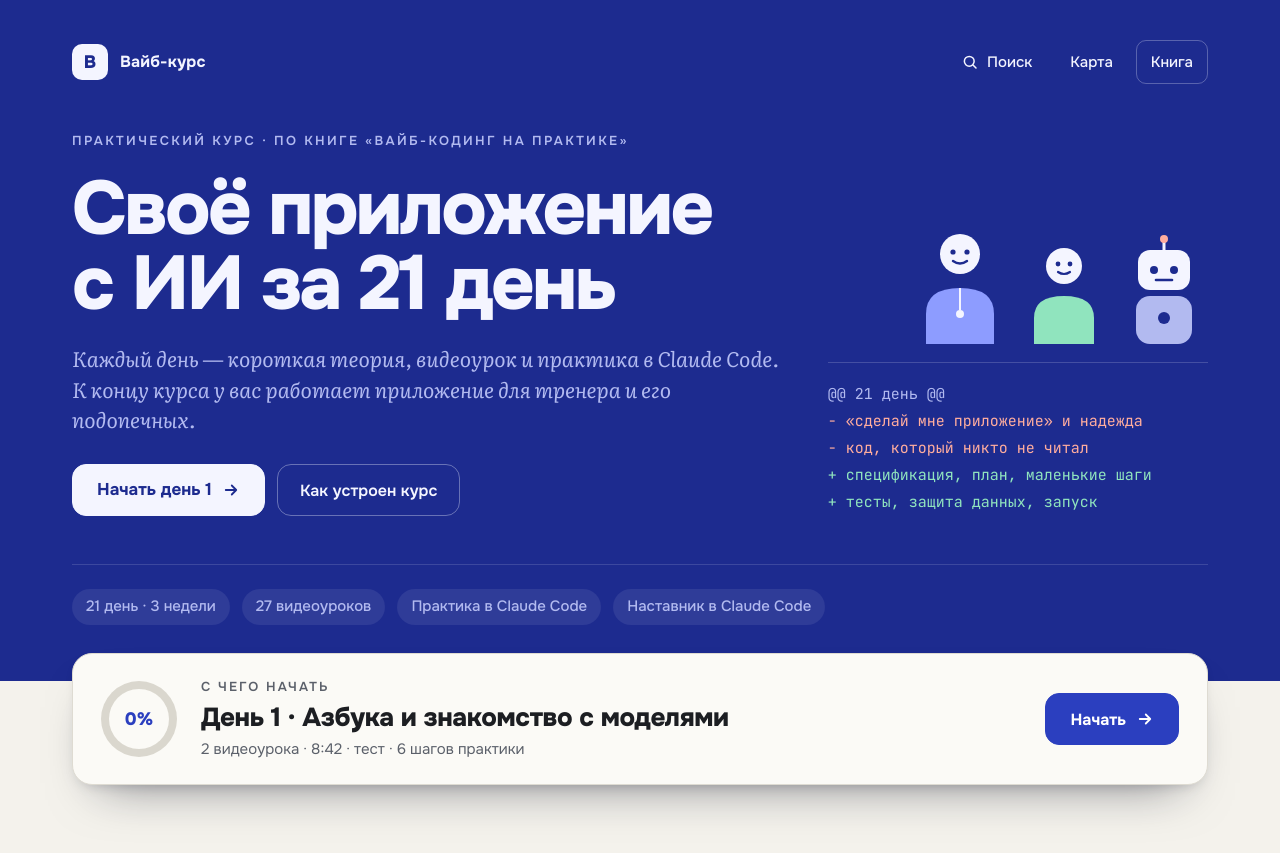
it: окно поиска: открытие и закрытие › кнопка «Поиск» на главной открывает окно, фокус в поле, до 2 символов — примеры
Click the button "Поиск" at (997, 62), box [946, 40, 1047, 84]
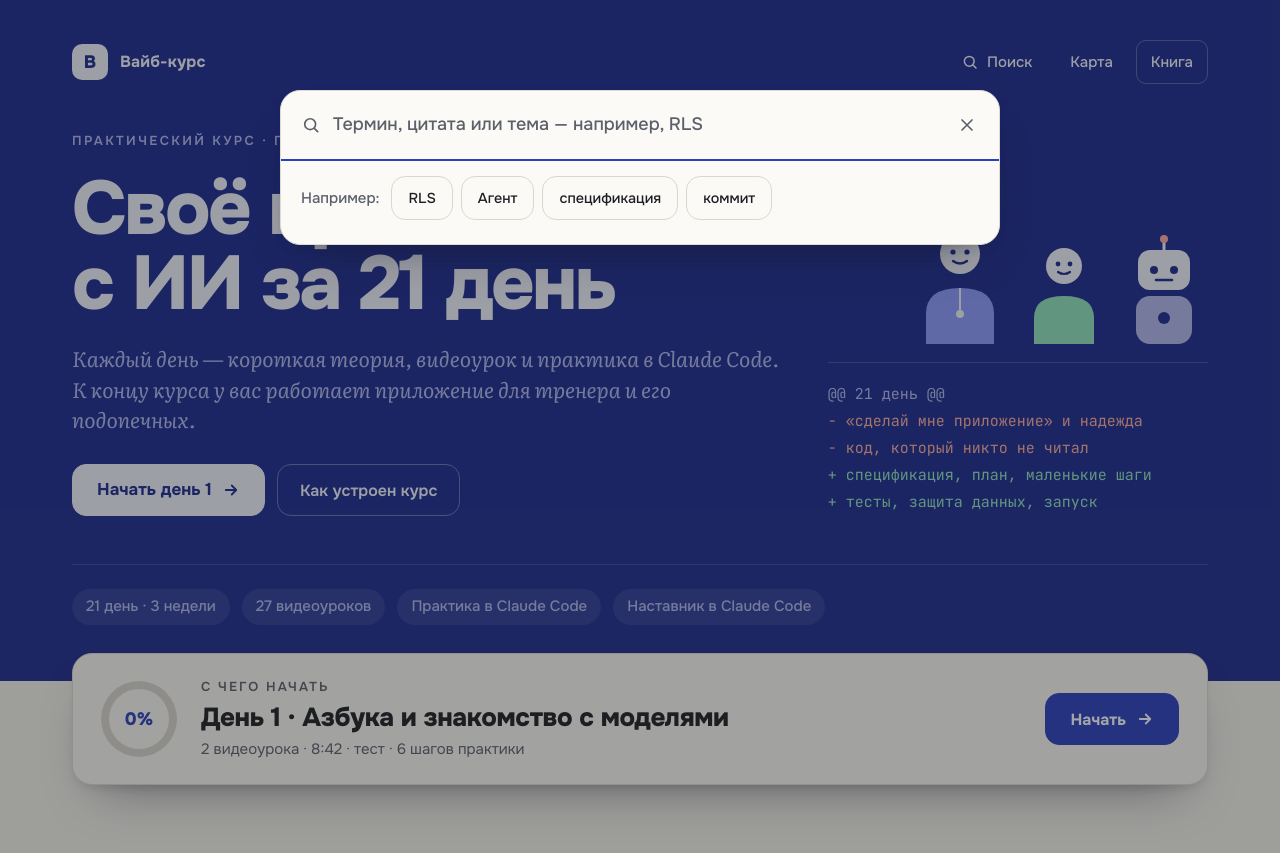
Result: the text "Например:" is shown at [301, 188, 379, 208]
Result: the button "RLS" is shown at [391, 176, 453, 220]
Result: the button "Агент" is shown at [461, 176, 534, 220]
Click the button "коммит" at (729, 198), box [686, 176, 772, 220]
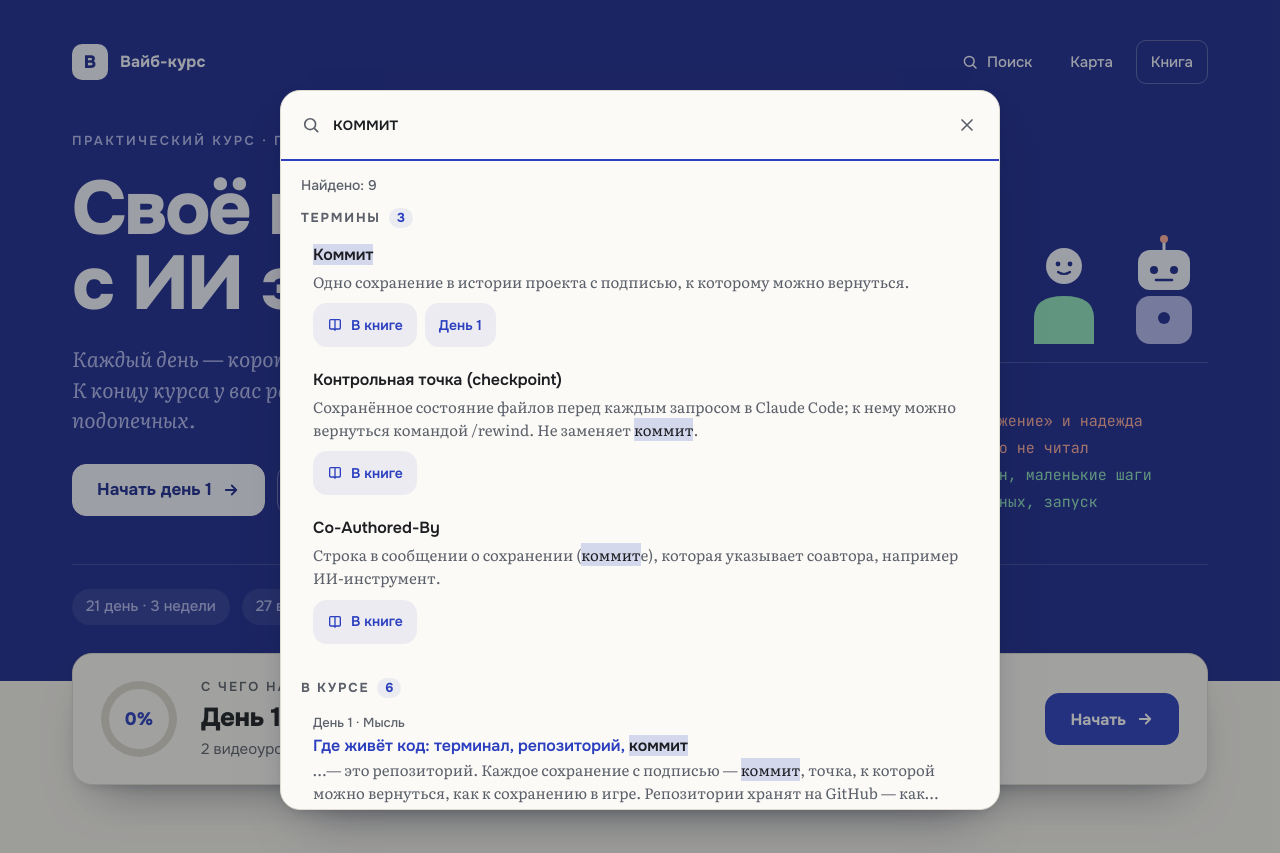
Result: the search field named "Поиск по курсу и книге" holds "коммит" at [329, 101, 937, 149]
Result: the text "Например:" is gone
